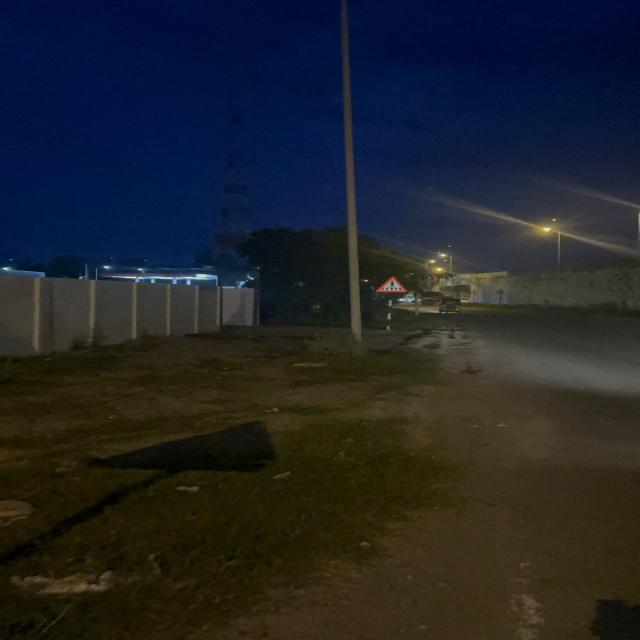Pedestrain_crossing: (374, 275, 410, 294)
